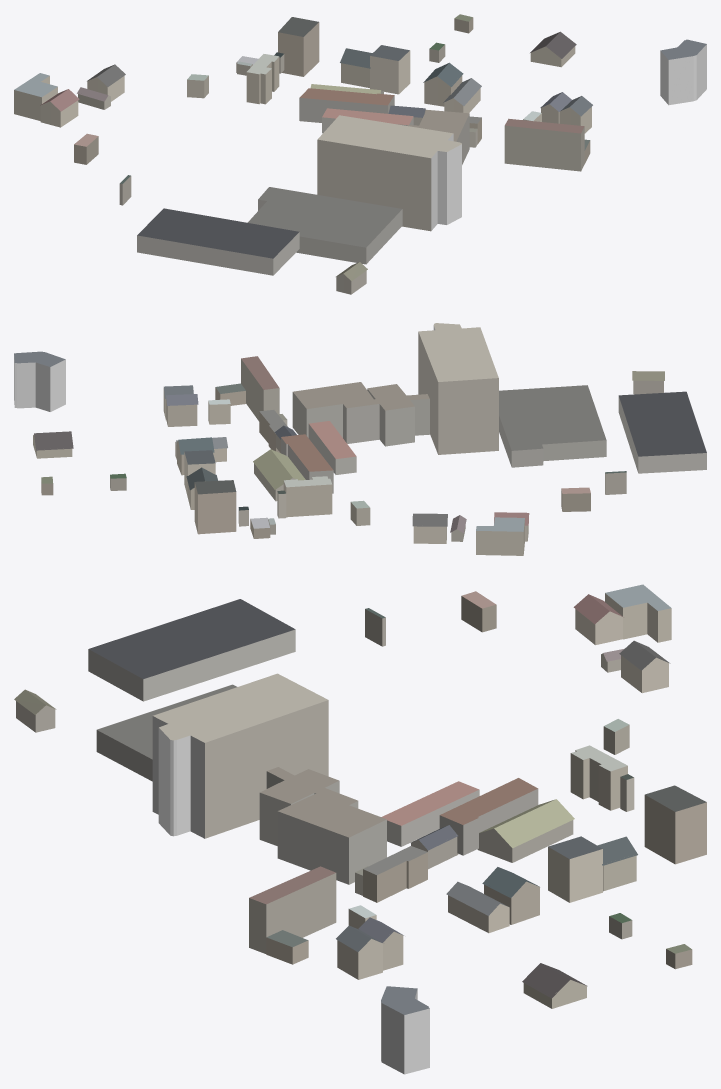
3 renders of one model, top to bottom at view 1: azimuth 30°, elevation 25°; view 2: azimuth 150°, elevation 25°; view 3: azimuth 270°, elevation 25°, orthographic. The views are drawn at different scales.
Parts seen in each view (by area): view 1: tuile; view 2: tuile; view 3: tuile.
Part boxes in pixels (box(x1,y1,x2,y2)): tuile: box(14, 14, 706, 294); tuile: box(14, 323, 706, 555); tuile: box(14, 584, 706, 1074).
Size of the model in its own units: 248 by 34.41 by 179.
